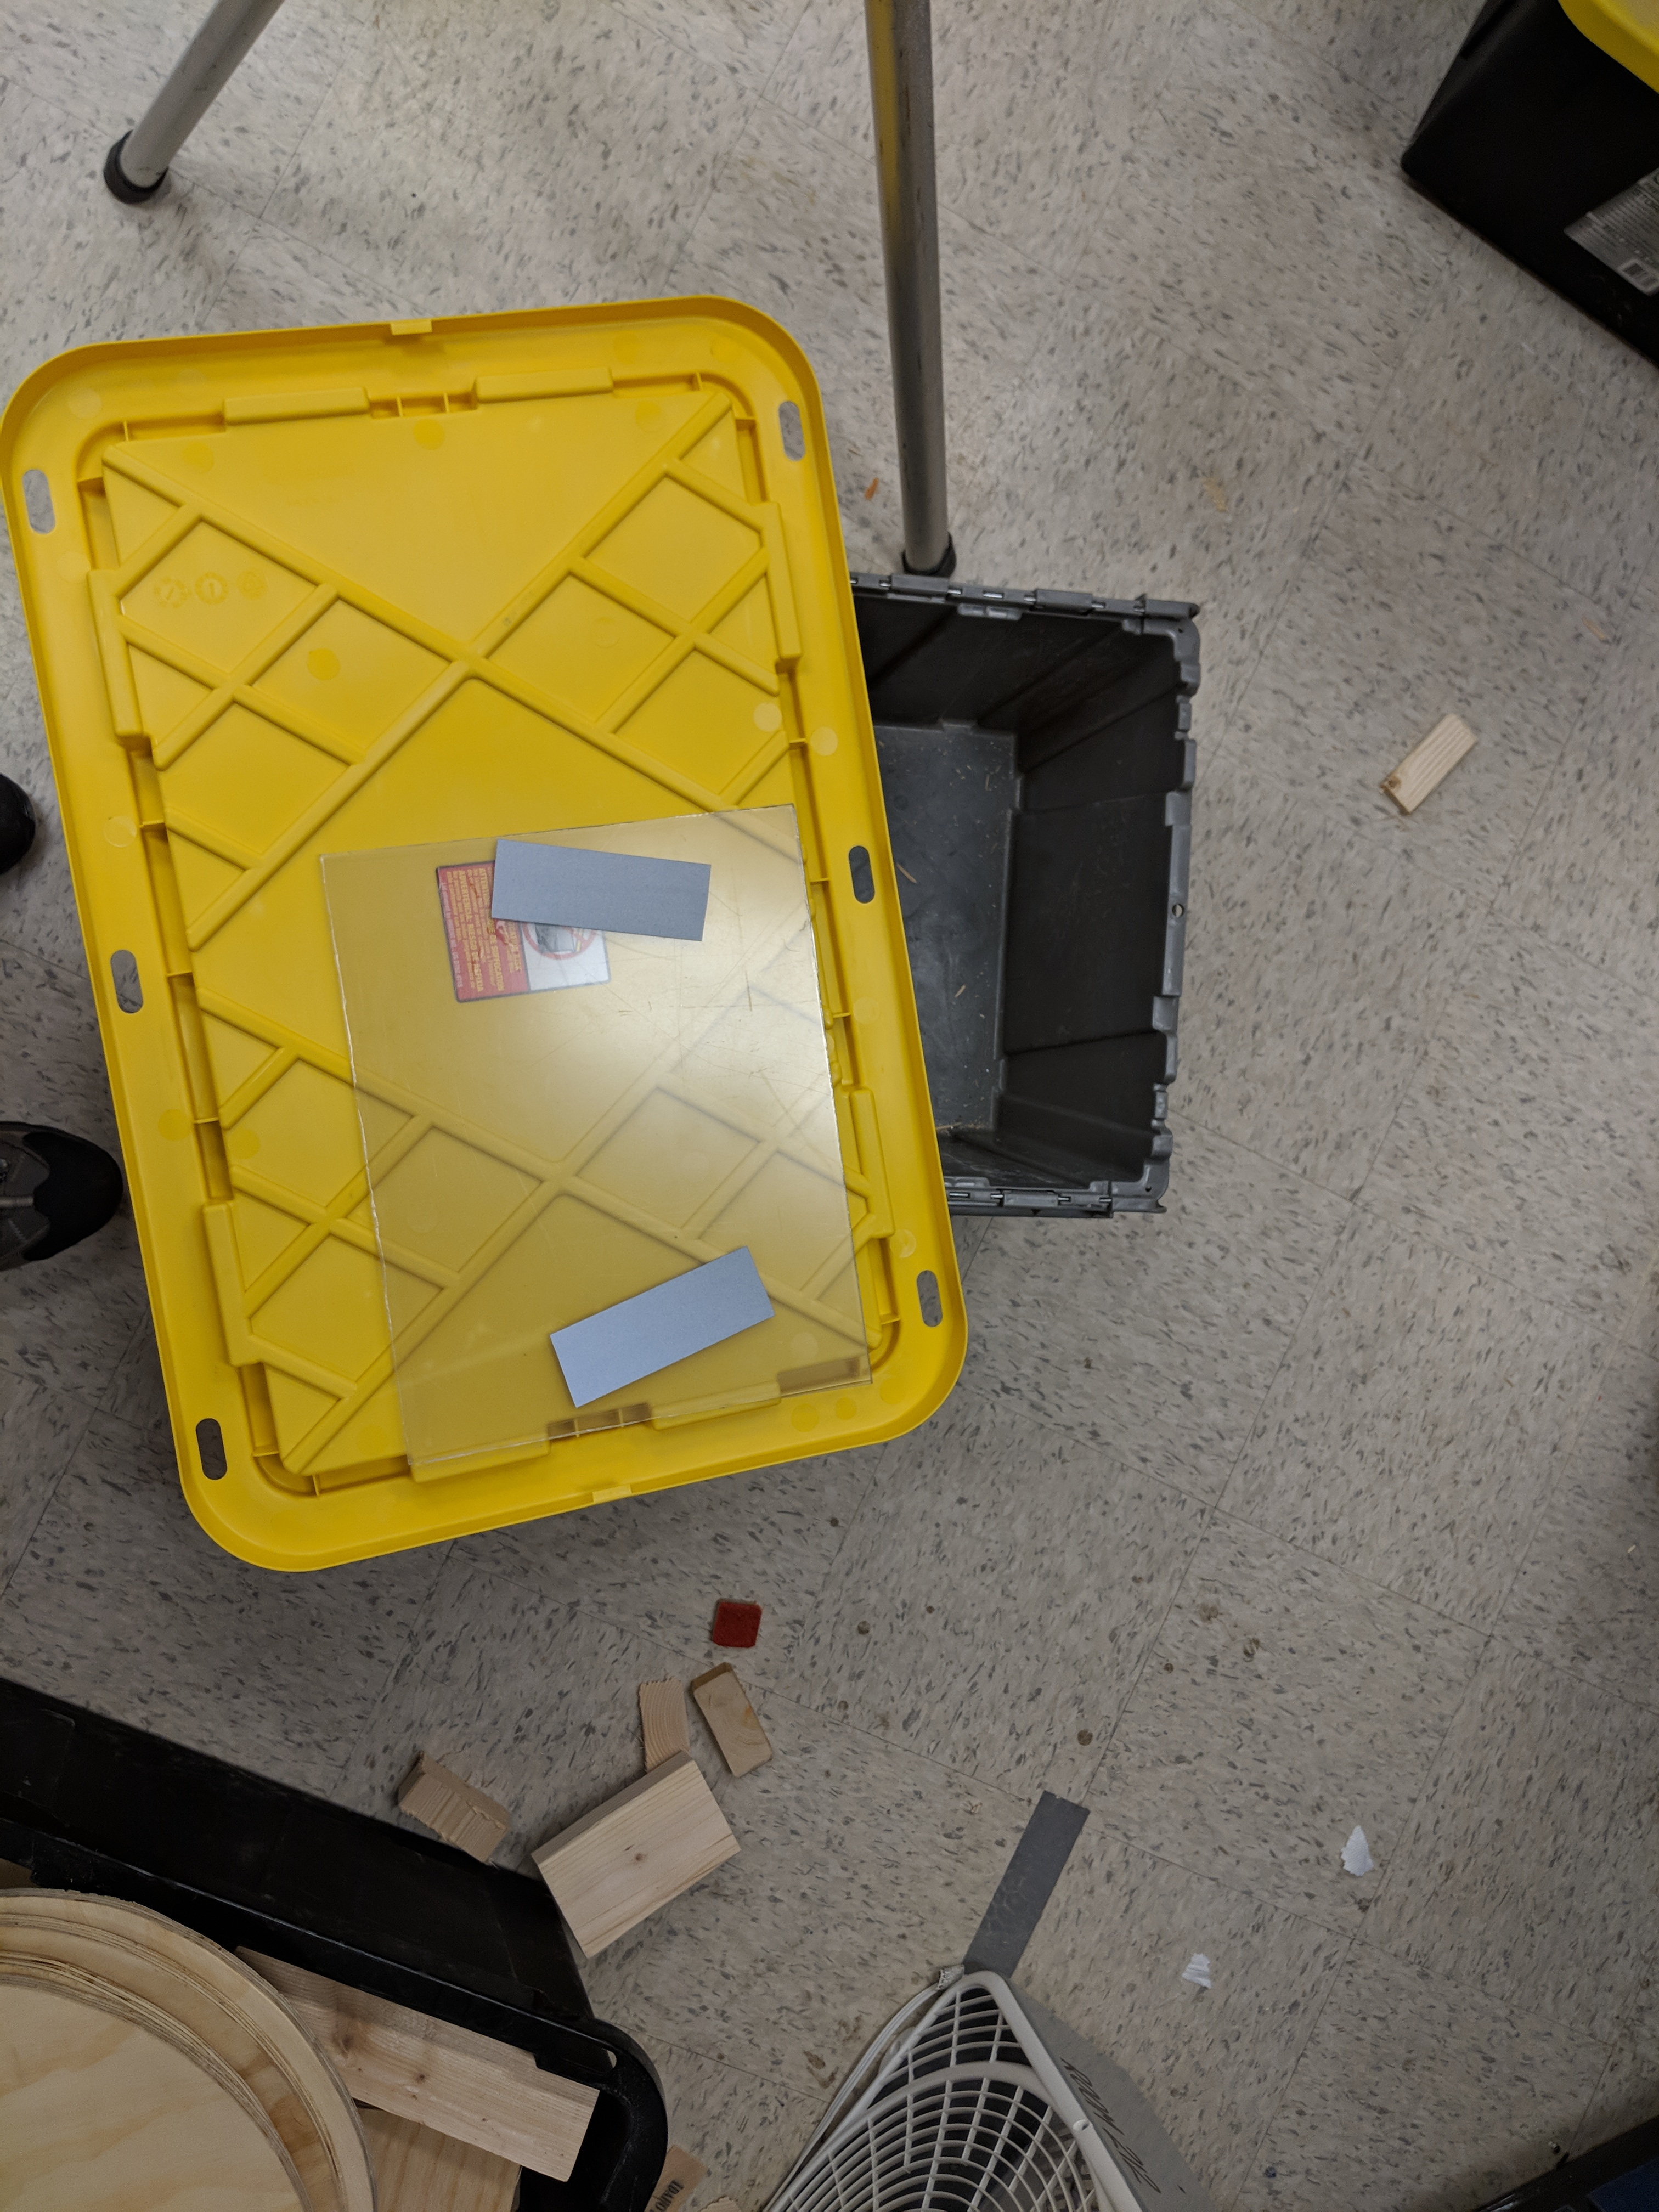vision_target: (481, 833, 795, 1420)
